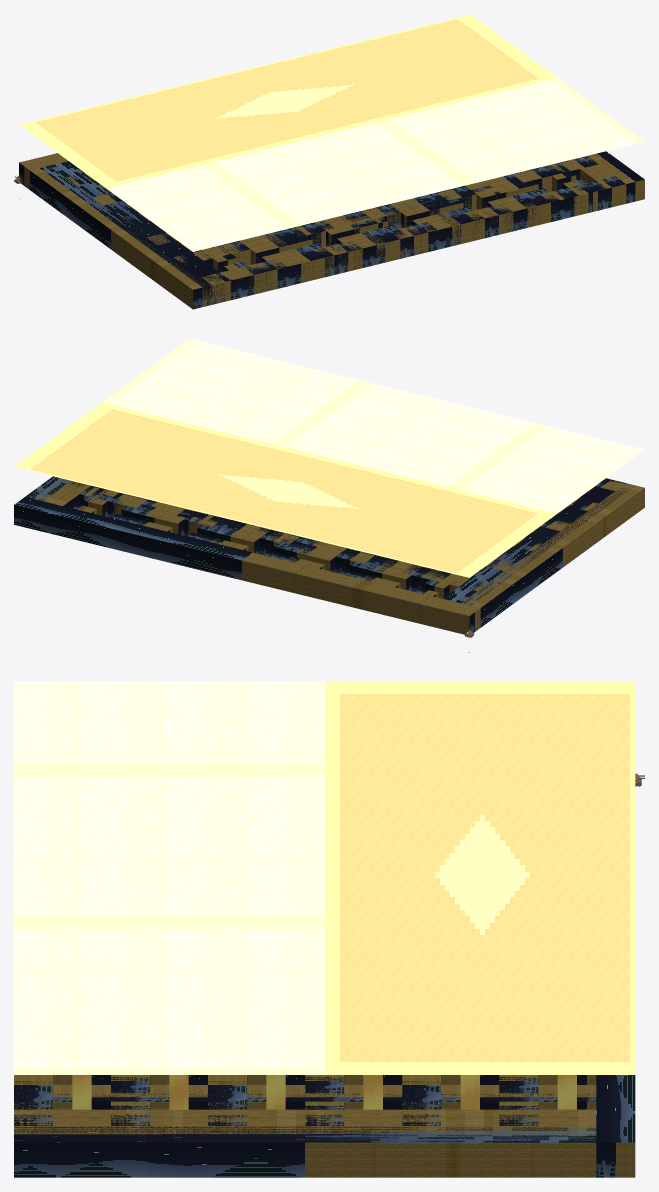
File: level.gltf
3 renders of one model, top to bottom at view 1: azimuth 30°, elevation 25°; view 2: azimuth 150°, elevation 25°; view 3: azimuth 270°, elevation 25°, orthographic. The views are drawn at different scales.
Parts seen in each view (by area): view 1: PROP_SECTOR_0, PROP_SECTOR_1, PROP_SECTOR_3, PROP_SECTOR_2, PROP_SECTOR_5; view 2: PROP_SECTOR_0, PROP_SECTOR_1, PROP_SECTOR_3, PROP_SECTOR_2, PROP_SECTOR_5; view 3: PROP_SECTOR_0, PROP_SECTOR_1, PROP_SECTOR_2.
Part boxes in pixels (bbox=[...]): PROP_SECTOR_0: bbox=[19, 14, 644, 309]; PROP_SECTOR_1: bbox=[85, 151, 644, 299]; PROP_SECTOR_3: bbox=[30, 166, 538, 308]; PROP_SECTOR_2: bbox=[310, 156, 597, 227]; PROP_SECTOR_5: bbox=[327, 190, 476, 236]; PROP_SECTOR_0: bbox=[14, 338, 644, 634]; PROP_SECTOR_1: bbox=[25, 478, 605, 590]; PROP_SECTOR_3: bbox=[404, 479, 643, 607]; PROP_SECTOR_2: bbox=[72, 483, 363, 572]; PROP_SECTOR_5: bbox=[123, 497, 336, 556]; PROP_SECTOR_0: bbox=[14, 681, 635, 1177]; PROP_SECTOR_1: bbox=[14, 1075, 596, 1142]; PROP_SECTOR_2: bbox=[14, 1085, 596, 1125].
Bounding box in the file's own units: 290 × 45 × 195.
Materials: 2 (2 with a texture image).
